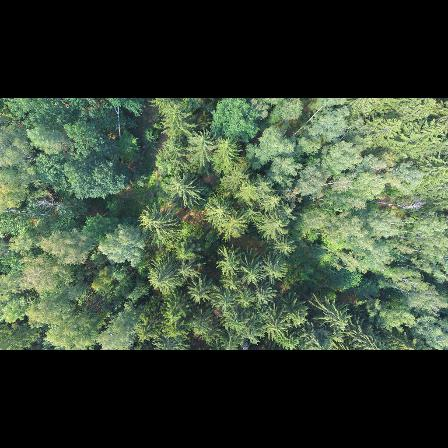Dead: (368, 196, 426, 213), (35, 198, 75, 211)
